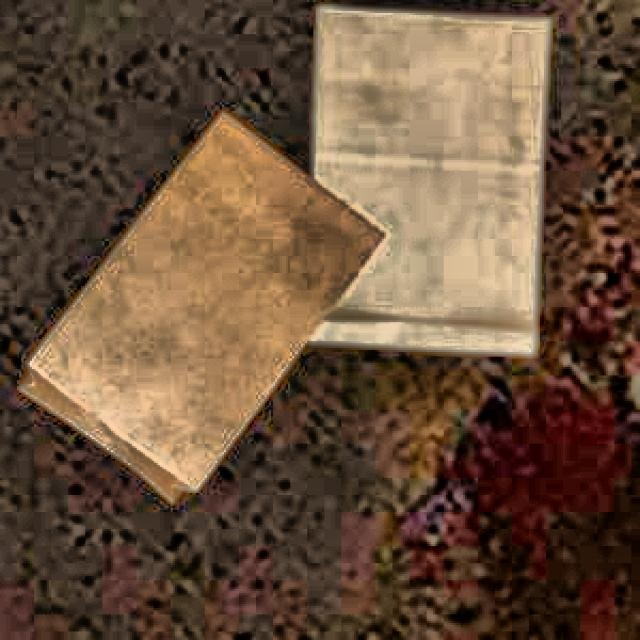Paper-bag: (28, 108, 385, 508), (297, 0, 563, 363)
